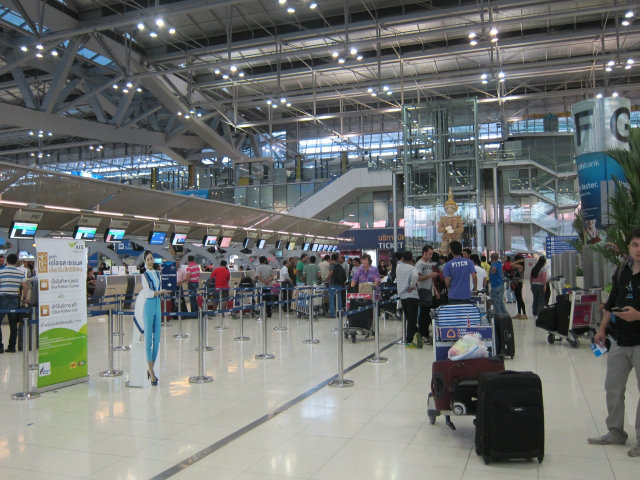backpack: (331, 265, 348, 288), (238, 276, 255, 293), (334, 266, 346, 287)
luggage: (475, 368, 548, 466), (428, 355, 510, 410), (533, 293, 579, 342), (431, 302, 486, 340), (487, 308, 519, 360), (344, 297, 375, 330), (290, 284, 317, 316), (380, 281, 400, 314)
mobile phone: (610, 305, 626, 317)
plastic bag: (445, 334, 491, 360)
